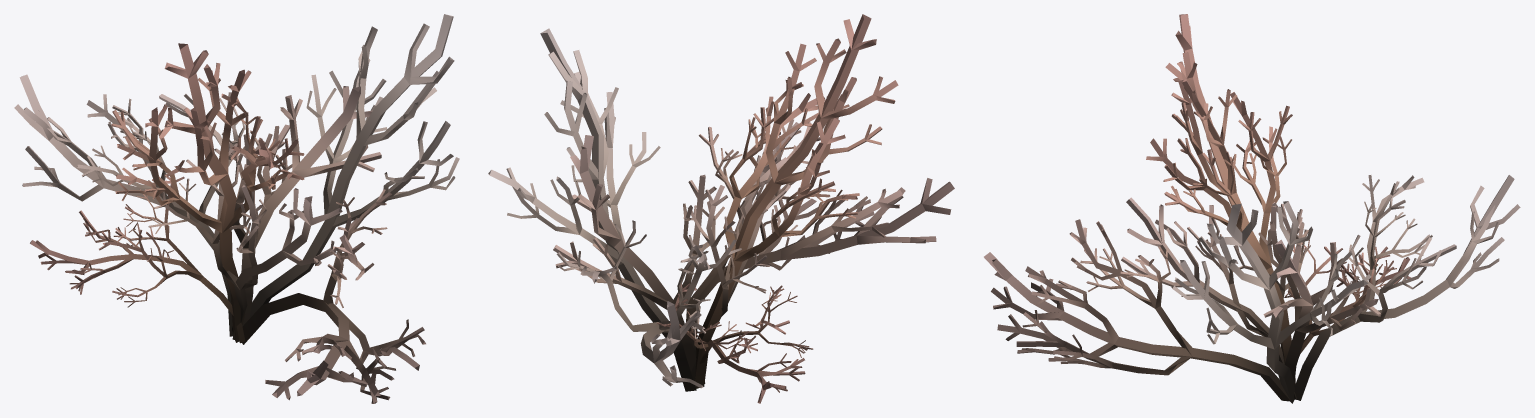
Rendered from DeadBushV1.fbx.
3 renders of one model, left to right at view 1: azimuth 30°, elevation 25°; view 2: azimuth 150°, elevation 25°; view 3: azimuth 270°, elevation 25°, orthographic. The views are drawn at different scales.
Visible parts, largest first — view 1: BushV1; view 2: BushV1; view 3: BushV1.
Boxes of the visible parts, box(x1,y1,x2,y2) form: BushV1: box(14, 14, 459, 403); BushV1: box(488, 14, 954, 403); BushV1: box(984, 14, 1520, 403).
Size of the model in its own units: 79.93 by 84.93 by 123.
